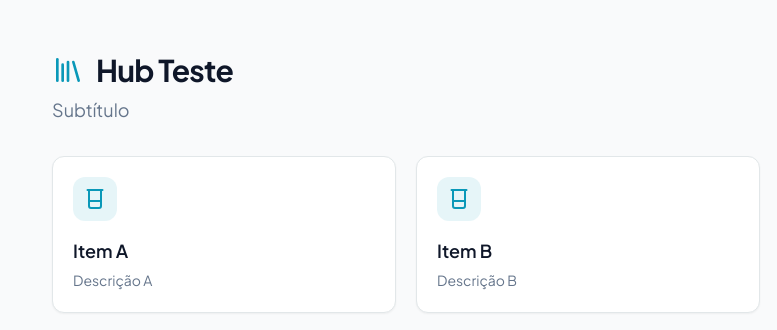
Test: HubGrid › navega ao caminho do card quando clicado
Click the button "Item B Descrição B" at (588, 234), box [416, 156, 760, 313]
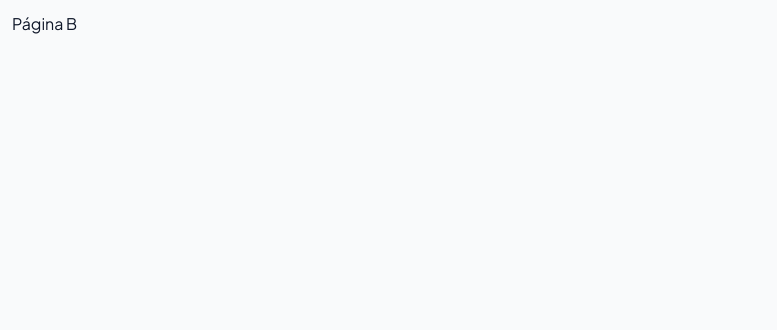
Expected: the text "Página B" is shown, [12, 13, 77, 34]
